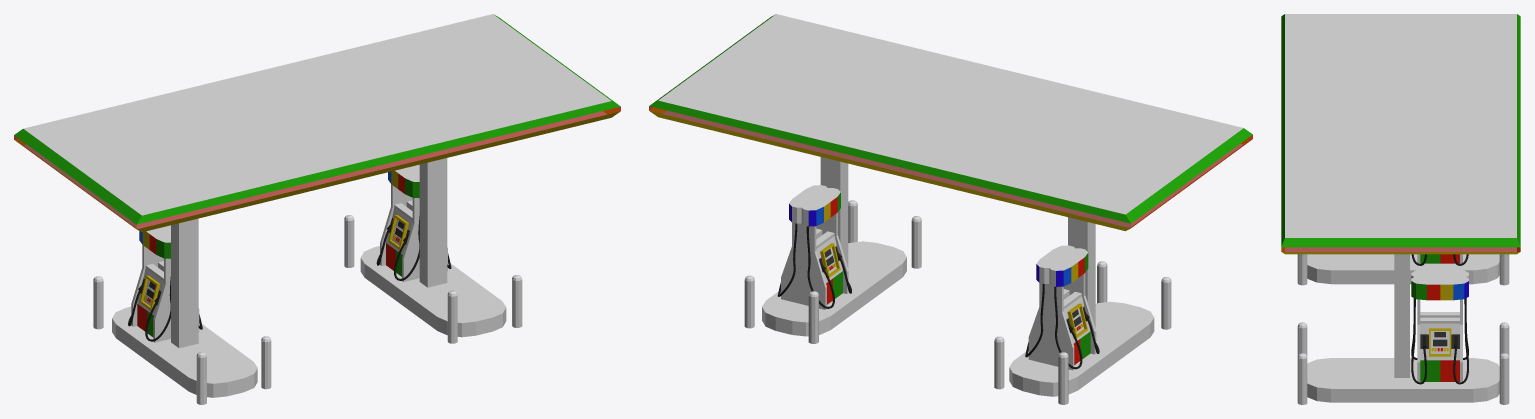
File: gas_stationSMALL.glb
3 renders of one model, left to right at view 1: azimuth 30°, elevation 25°; view 2: azimuth 150°, elevation 25°; view 3: azimuth 270°, elevation 25°, orthographic. The views are drawn at different scales.
Parts seen in each view (by area): view 1: gas station, fuel pump.004, fuel pump; view 2: gas station, fuel pump, fuel pump.004; view 3: gas station, fuel pump.004, fuel pump.
Part boxes in pixels (x1,y1,x2,y2): gas station: (14,14,620,404); fuel pump.004: (376,164,451,281); fuel pump: (128,225,202,342); gas station: (649,14,1252,404); fuel pump: (1025,245,1099,370); fuel pump.004: (777,185,851,309); gas station: (1281,14,1520,404); fuel pump.004: (1411,269,1468,384); fuel pump: (1411,254,1468,265).
Size of the model in its own units: 14.4 by 5.99 by 6.31.
